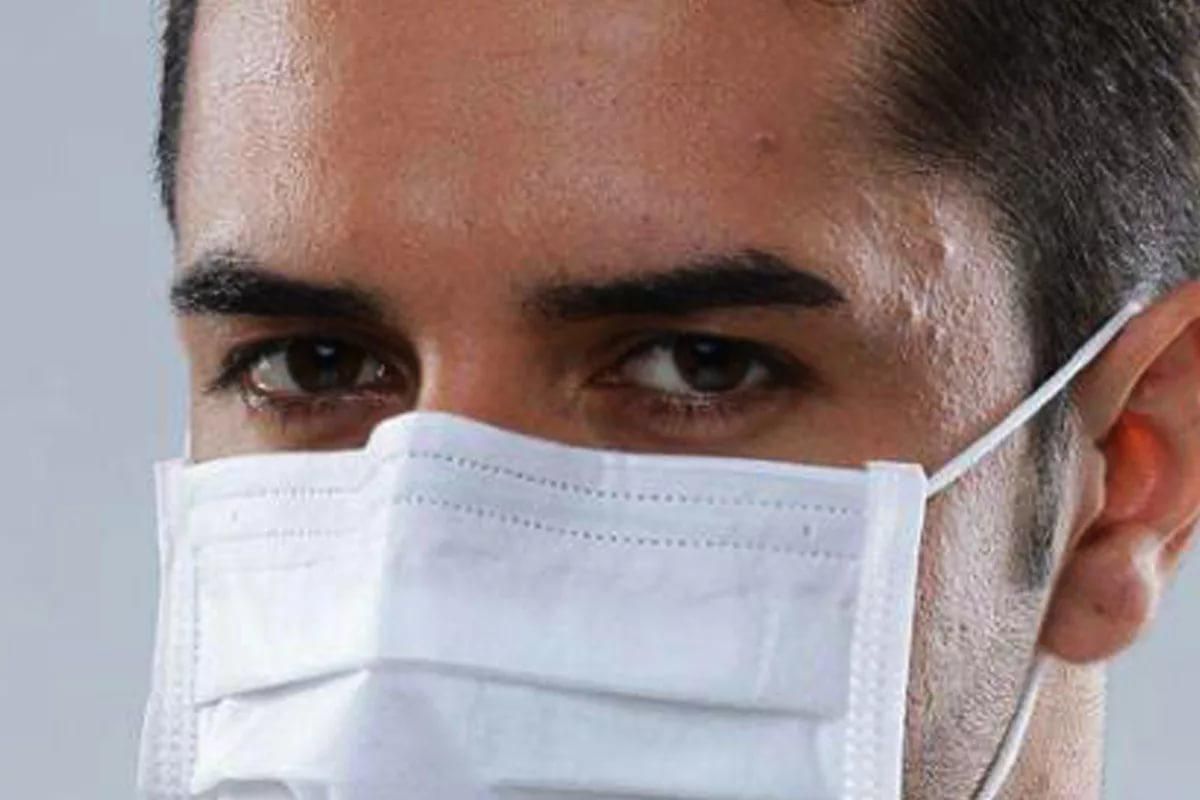mask: (146, 4, 910, 799)
